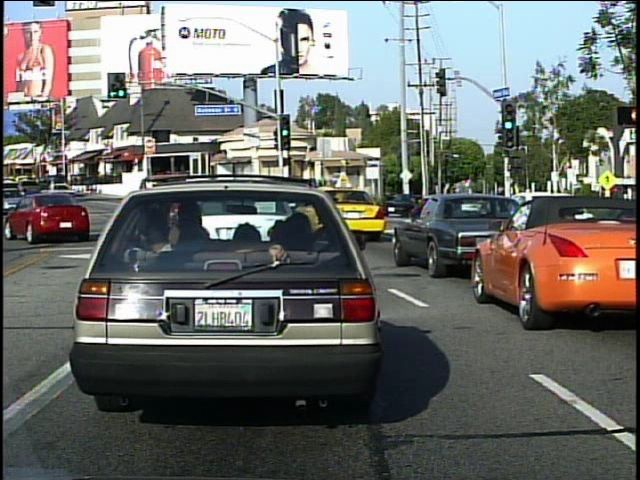person: (446, 183, 468, 229)
